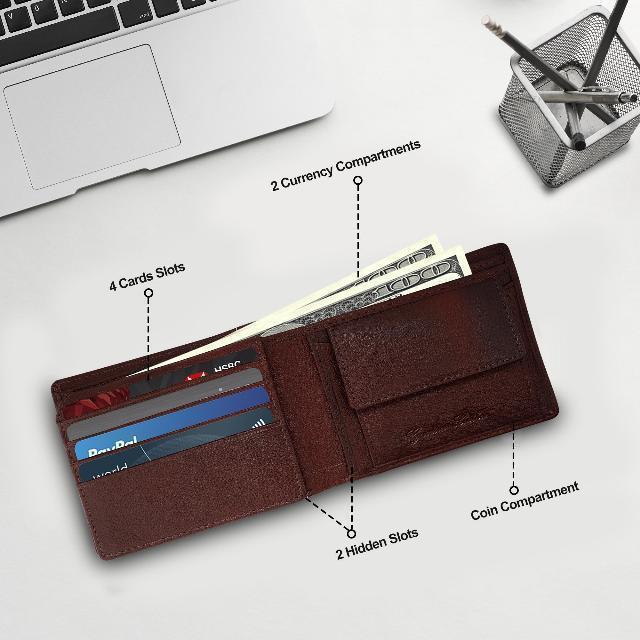wallet: (46, 239, 562, 566)
